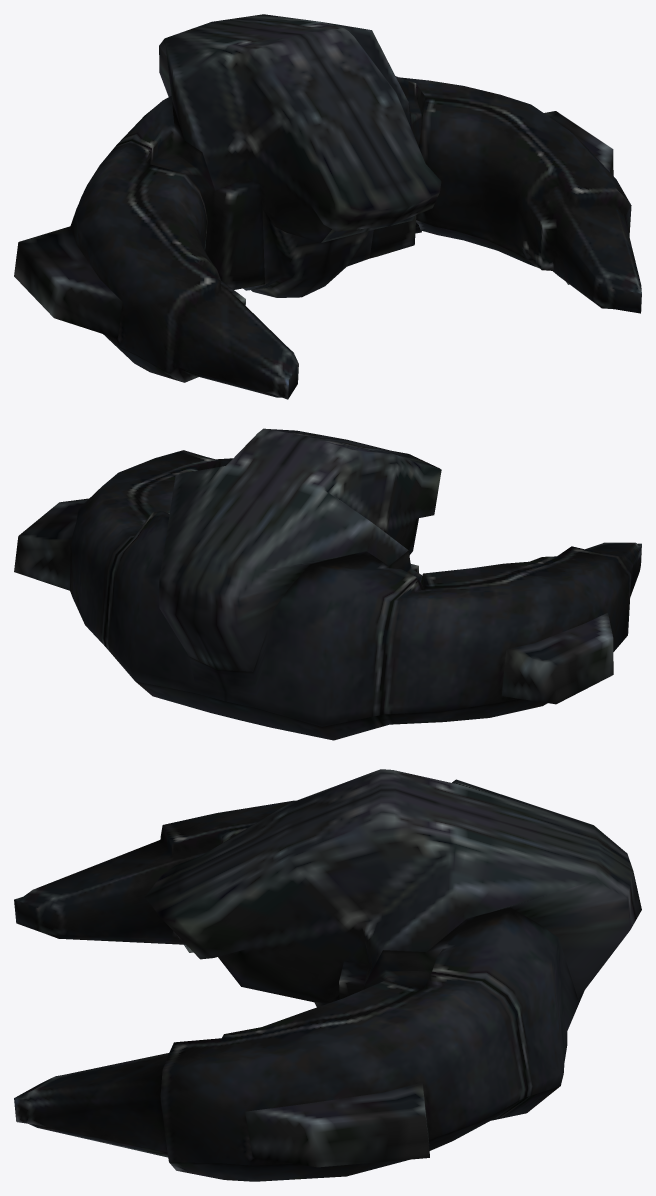
Rendered from Hybrid_Harvester.glb.
3 views of the same model, one above another, from view 1: azimuth 30°, elevation 25°; view 2: azimuth 150°, elevation 25°; view 3: azimuth 270°, elevation 25° (orthographic). The views are drawn at different scales.
Parts seen in each view (by area): view 1: New Probe 02; view 2: New Probe 02; view 3: New Probe 02.
Part boxes in pixels (x1,y1,x2,y2): New Probe 02: (14,14,641,399); New Probe 02: (14,428,641,740); New Probe 02: (14,769,641,1181).
Bounding box in the file's own units: 1.14 × 0.5196 × 0.9637.
Materials: 2 (2 with a texture image).
